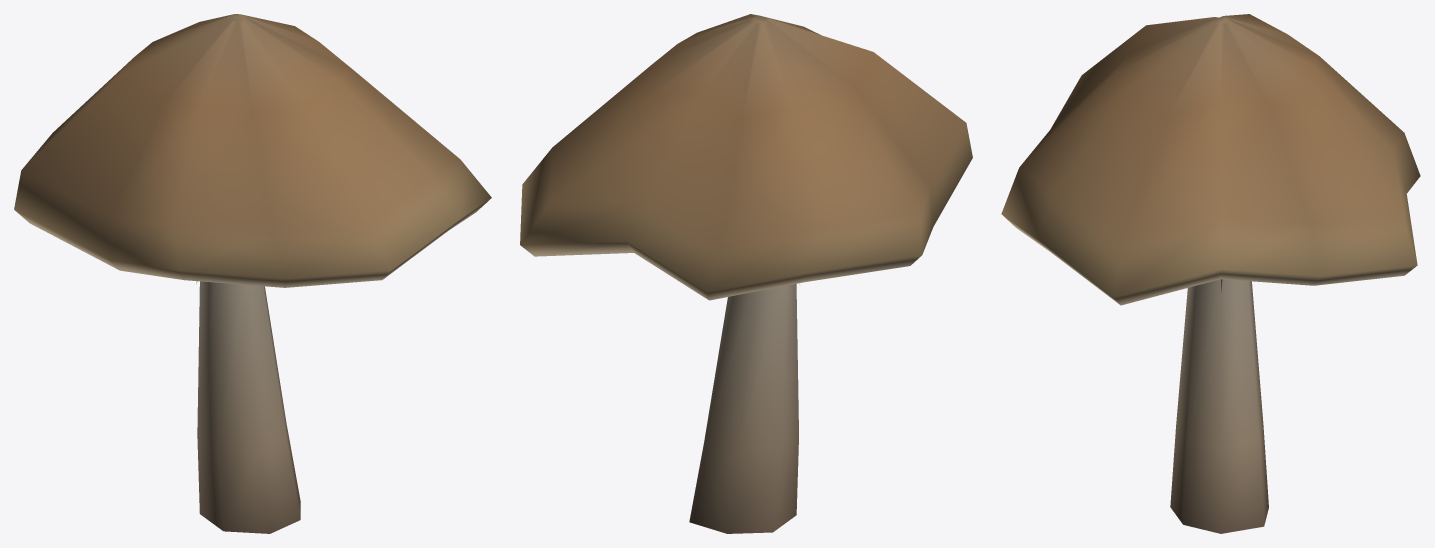
Rendered from glow.mushroom-v2.glb.
3 renders of one model, left to right at view 1: azimuth 30°, elevation 25°; view 2: azimuth 150°, elevation 25°; view 3: azimuth 270°, elevation 25°, orthographic. The views are drawn at different scales.
Visible parts, largest first — view 1: glow.mushroom; view 2: glow.mushroom; view 3: glow.mushroom.
Boxes of the visible parts, x1,y1,x2,y2 form: glow.mushroom: (14, 14, 491, 533); glow.mushroom: (520, 14, 972, 533); glow.mushroom: (1001, 14, 1420, 533).
Bounding box in the file's own units: 0.8116 × 0.9861 × 0.7741.
